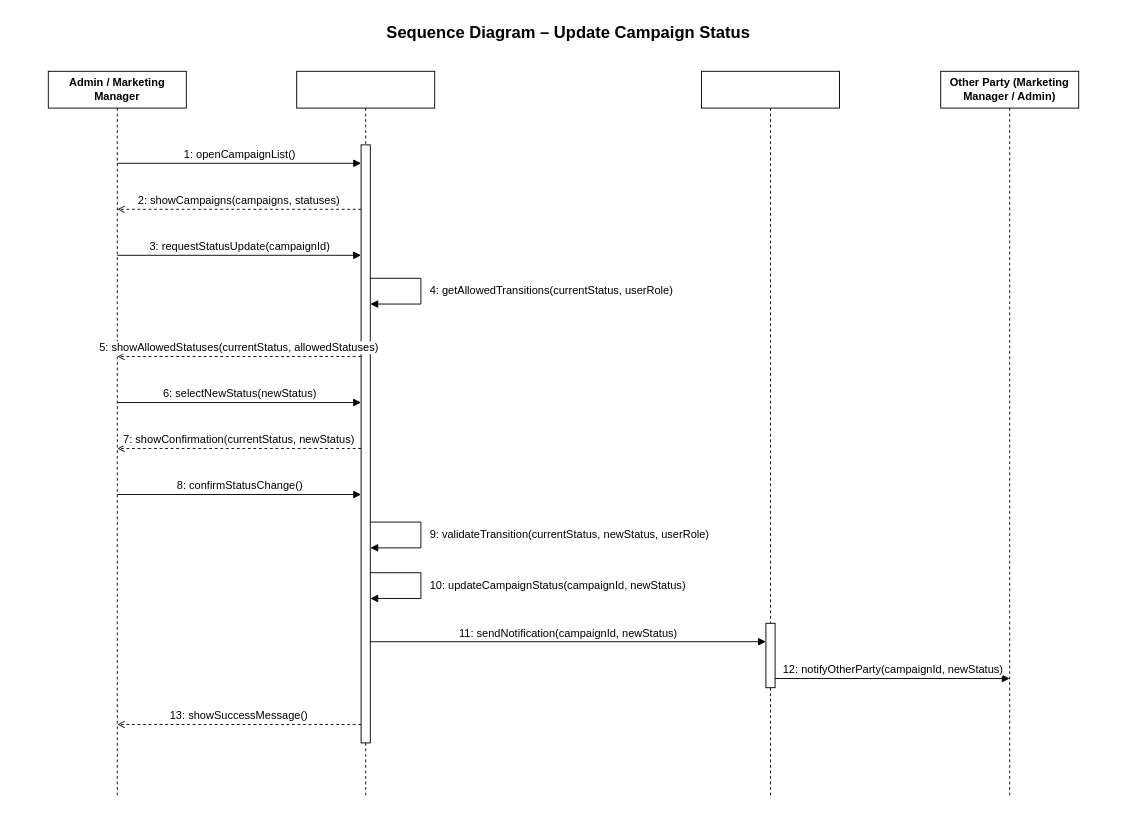
This 1135x814 diagram has some shape labels left out. The shapes that lost their labels are listed below. From the top down, each one's box as (x1, y1, x2, y2) in pixels, then its label:
(296, 70, 435, 798): Campaign System
(701, 70, 840, 798): Notification Service
